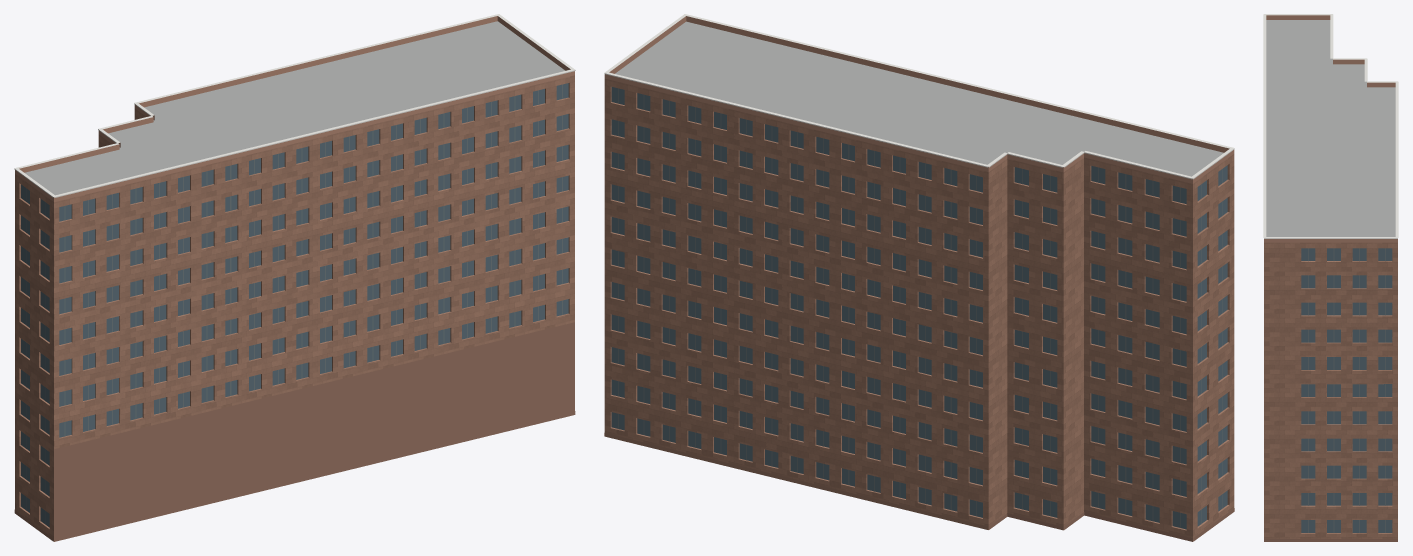
The picture shows the model from 3 angles, left to right: view 1: azimuth 30°, elevation 25°; view 2: azimuth 150°, elevation 25°; view 3: azimuth 270°, elevation 25°; orthographic projection. The views are drawn at different scales.
Visible parts, largest first — view 1: arrupe__wall, arrupe__base, arrupe__glass, arrupe__roof, arrupe__parapet, arrupe__frame, arrupe__trim; view 2: arrupe__wall, arrupe__glass, arrupe__roof, arrupe__parapet, arrupe__frame, arrupe__trim, arrupe__base; view 3: arrupe__wall, arrupe__roof, arrupe__glass, arrupe__trim, arrupe__parapet, arrupe__frame, arrupe__base.
Part boxes in pixels (bbox=[...]): arrupe__wall: bbox=[15, 75, 574, 541]; arrupe__base: bbox=[14, 322, 575, 541]; arrupe__glass: bbox=[21, 83, 568, 527]; arrupe__roof: bbox=[24, 21, 565, 195]; arrupe__parapet: bbox=[15, 16, 574, 202]; arrupe__frame: bbox=[26, 84, 562, 524]; arrupe__trim: bbox=[14, 14, 575, 197]; arrupe__wall: bbox=[604, 78, 1234, 541]; arrupe__glass: bbox=[611, 87, 1227, 529]; arrupe__roof: bbox=[615, 21, 1223, 176]; arrupe__parapet: bbox=[604, 16, 1234, 183]; arrupe__frame: bbox=[618, 88, 1222, 527]; arrupe__trim: bbox=[604, 14, 1234, 179]; arrupe__base: bbox=[604, 433, 1234, 541]; arrupe__wall: bbox=[1264, 242, 1397, 538]; arrupe__roof: bbox=[1266, 20, 1395, 236]; arrupe__glass: bbox=[1301, 248, 1392, 532]; arrupe__trim: bbox=[1263, 14, 1398, 238]; arrupe__parapet: bbox=[1264, 15, 1397, 242]; arrupe__frame: bbox=[1308, 248, 1385, 532]; arrupe__base: bbox=[1264, 539, 1397, 541].
Bounding box in the file's own units: 61.95 × 39.1 × 15.78.
Materials: 7 (1 with a texture image).
